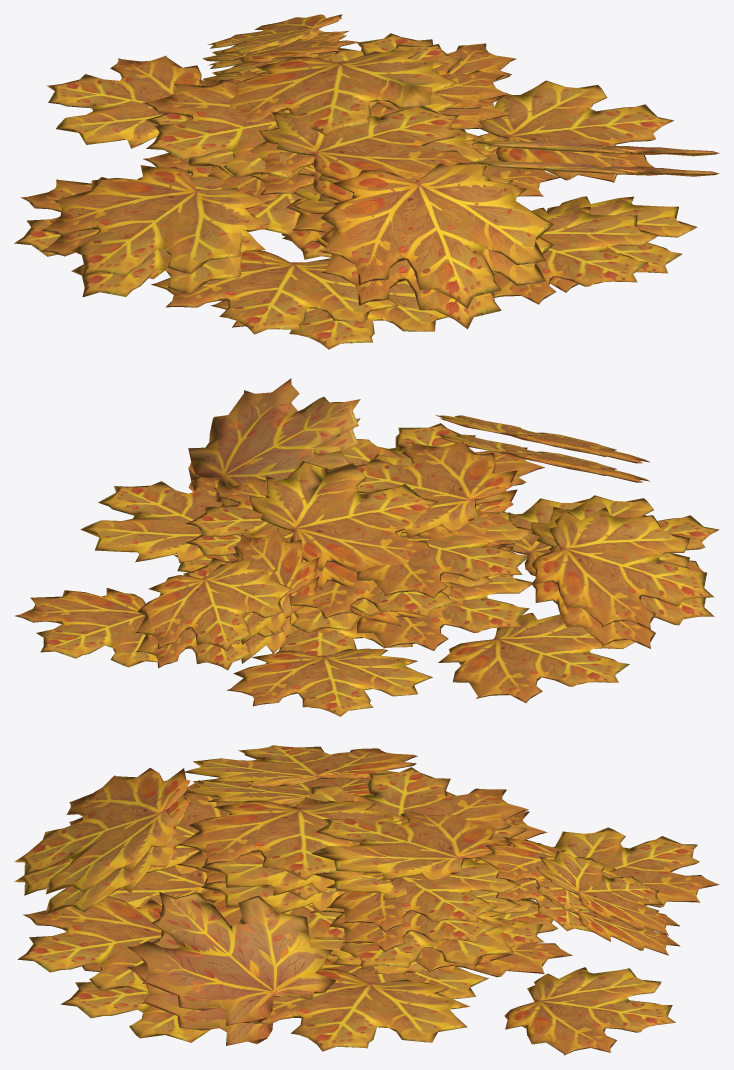
The model's file is leafMassivePileMesh.fbx.
The picture shows the model from 3 angles, top to bottom: view 1: azimuth 30°, elevation 25°; view 2: azimuth 150°, elevation 25°; view 3: azimuth 270°, elevation 25°; orthographic projection. The views are drawn at different scales.
Visible parts, largest first — view 1: Mesh_0.004; view 2: Mesh_0.004; view 3: Mesh_0.004.
Part boxes in pixels (x1,y1,x2,y2): Mesh_0.004: [14, 14, 719, 349]; Mesh_0.004: [15, 378, 719, 716]; Mesh_0.004: [14, 745, 719, 1055].
Size of the model in its own units: 320 by 57.98 by 324.
